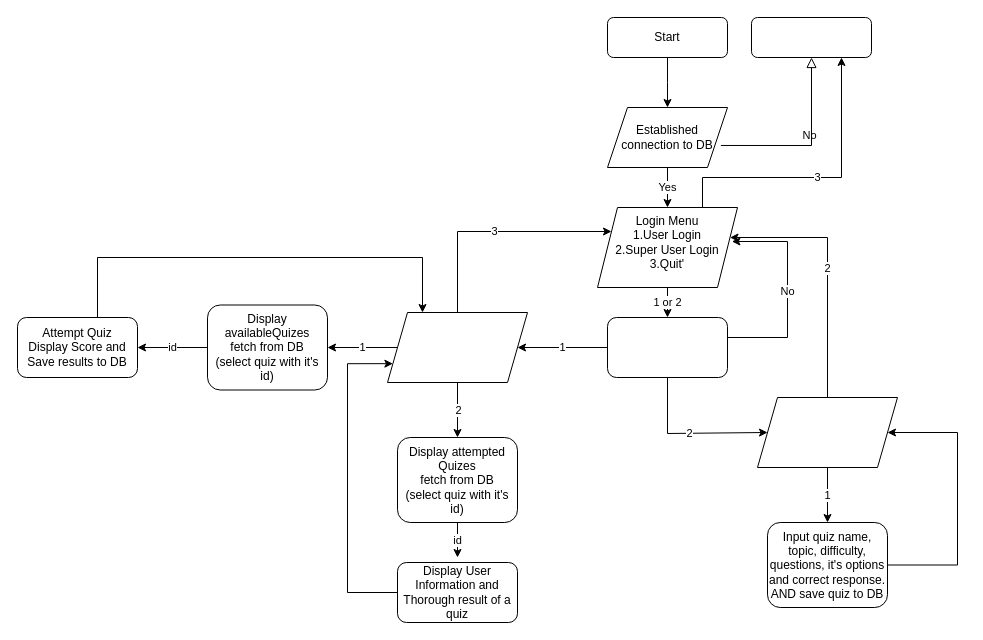
The diagram is 983 pixels wide and 640 high, and some of its shapes have lost their labels. Each missing label, with the centre of its shape:
End: point (811, 37)
Login Validation: point (667, 347)
User Menu 1. Set Quiz 2. Quit: point (827, 432)
User Menu 1. Take Quiz 2. Previous Results 3. Quit: point (457, 347)
